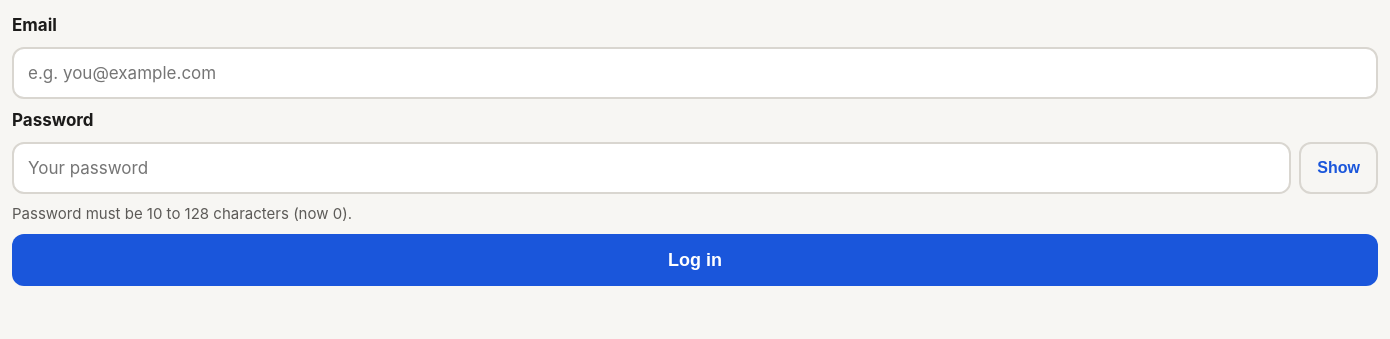
Test case: AuthForm login › shows the length hint and blocks short passwords
Expected: the text "Password must be 10 to 128 characters (now 0)." is shown, top-left (12, 204), bottom-right (352, 223)
Type "short" into the password field labelled "Password" at [652, 168], box top-left (12, 142), bottom-right (1291, 194)
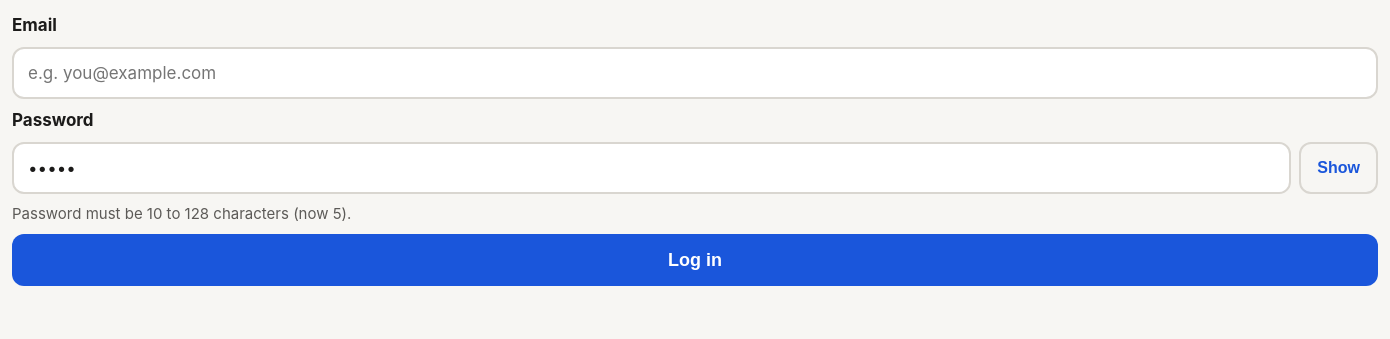
Now the text "Password must be 10 to 128 characters (now 5)." is shown, box top-left (12, 204), bottom-right (351, 223)
Type "a@b.com" into the field labelled "Email" at [695, 73], box top-left (12, 47), bottom-right (1378, 99)
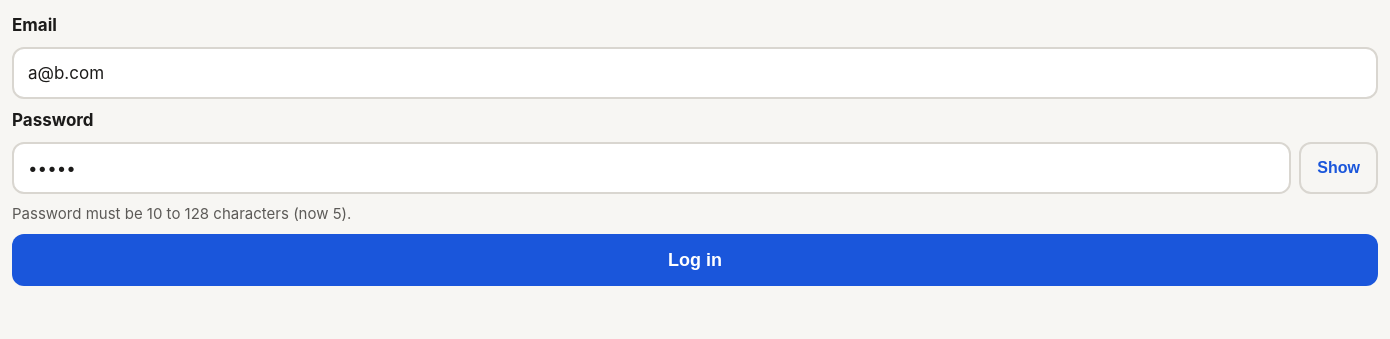
Click the button "Log in" at [695, 260], box top-left (12, 234), bottom-right (1378, 286)
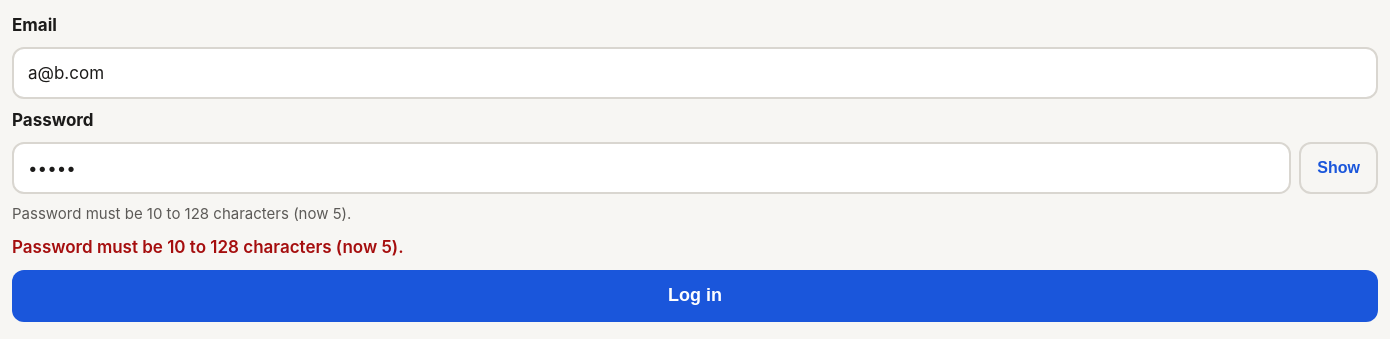
Now the message shows "10 to 128 characters (now 5)", box top-left (12, 237), bottom-right (404, 257)
